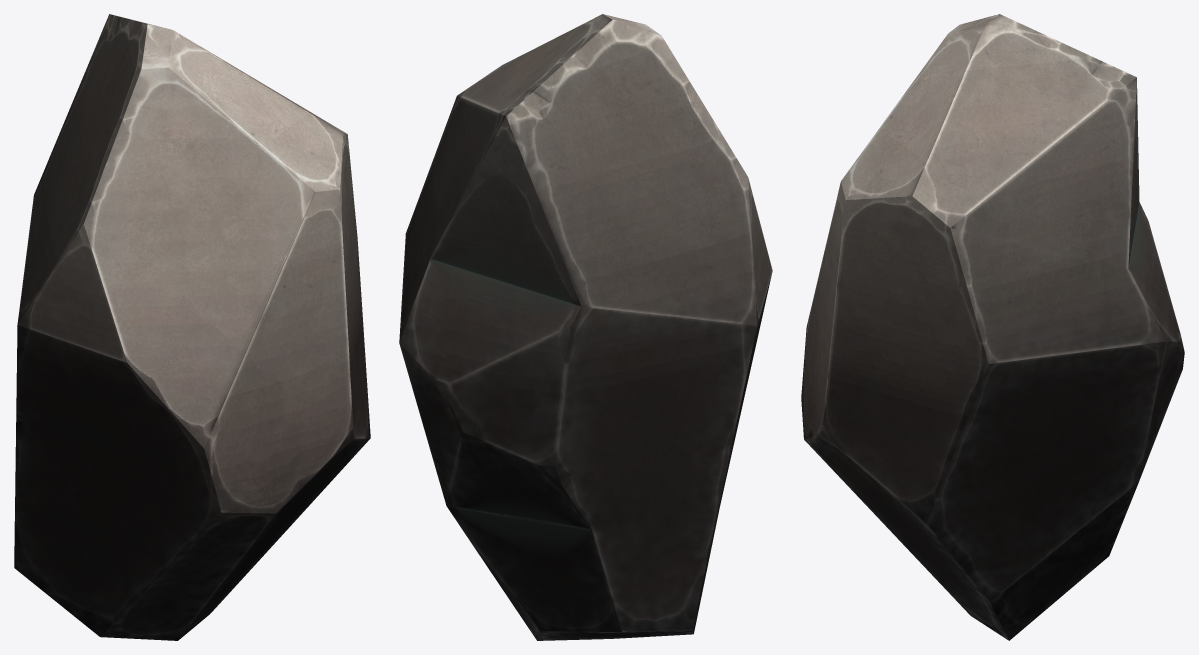
Rendered from berg4.glb.
3 renders of one model, left to right at view 1: azimuth 30°, elevation 25°; view 2: azimuth 150°, elevation 25°; view 3: azimuth 270°, elevation 25°, orthographic. The views are drawn at different scales.
Visible parts, largest first — view 1: L_Rock_02; view 2: L_Rock_02; view 3: L_Rock_02.
Boxes of the visible parts, x1,y1,x2,y2 form: L_Rock_02: (14,14,370,640); L_Rock_02: (399,14,772,640); L_Rock_02: (801,14,1184,640).
Size of the model in its own units: 1.57 by 2.69 by 1.57.
1 material, 1 textured.
